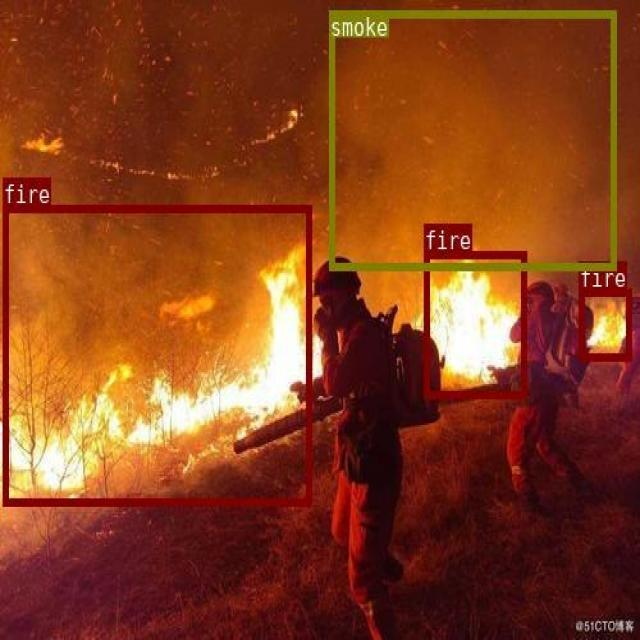fire: (3, 205, 311, 504), (423, 250, 526, 397), (578, 288, 630, 359)
smoke: (328, 9, 616, 268)
